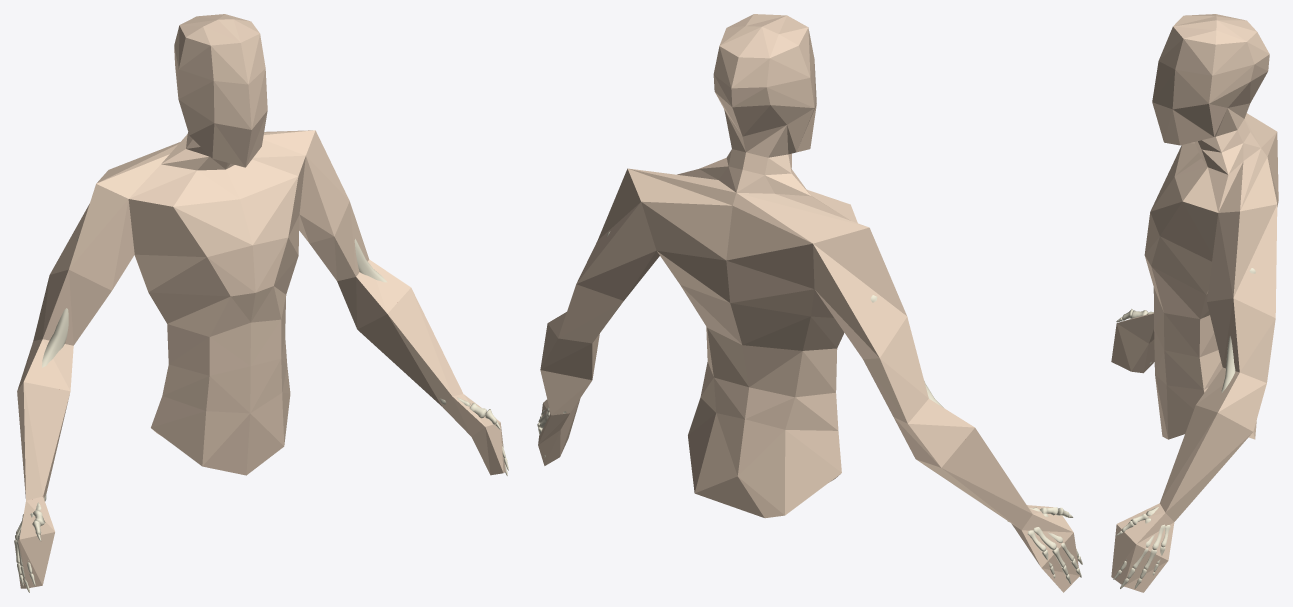
The model's file is body-rig.glb.
3 views of the same model, side by side, from view 1: azimuth 30°, elevation 25°; view 2: azimuth 150°, elevation 25°; view 3: azimuth 270°, elevation 25° (orthographic). The views are drawn at different scales.
Visible parts, largest first — view 1: Torso, Head, UpperArm_R, Forearm_L, UpperArm_L, Forearm_R, Hand_R, Hand_L, Bone_Hand_R, Bone_UpperArm_R; view 2: Torso, Head, UpperArm_R, UpperArm_L, Forearm_R, Hand_R, Forearm_L, Hand_L, Bone_Hand_R; view 3: Torso, Head, UpperArm_L, Forearm_L, Hand_L, Hand_R, Bone_Hand_L, Bone_UpperArm_L.
Part boxes in pixels (<box>): Torso: <box>50,111,349,475</box>; Head: <box>174,14,267,135</box>; UpperArm_R: <box>17,269,111,391</box>; Forearm_L: <box>357,288,463,406</box>; UpperArm_L: <box>309,201,410,329</box>; Forearm_R: <box>17,382,70,500</box>; Hand_R: <box>15,496,54,588</box>; Hand_L: <box>442,394,505,475</box>; Bone_Hand_R: <box>14,502,45,592</box>; Bone_UpperArm_R: <box>42,237,78,367</box>; Torso: <box>576,105,907,518</box>; Head: <box>713,14,816,157</box>; UpperArm_R: <box>863,317,974,467</box>; UpperArm_L: <box>540,284,623,379</box>; Forearm_R: <box>916,428,1032,529</box>; Hand_R: <box>1011,505,1079,592</box>; Forearm_L: <box>540,370,591,415</box>; Hand_L: <box>538,398,580,465</box>; Bone_Hand_R: <box>1027,507,1082,583</box>; Torso: <box>1144,102,1278,439</box>; Head: <box>1152,14,1269,136</box>; UpperArm_L: <box>1196,298,1275,431</box>; Forearm_L: <box>1160,405,1252,521</box>; Hand_L: <box>1111,503,1174,592</box>; Hand_R: <box>1111,313,1154,373</box>; Bone_Hand_L: <box>1113,507,1170,588</box>; Bone_UpperArm_L: <box>1221,268,1255,392</box>.
Bounding box in the file's own units: 1.01 × 0.968 × 0.3171.
